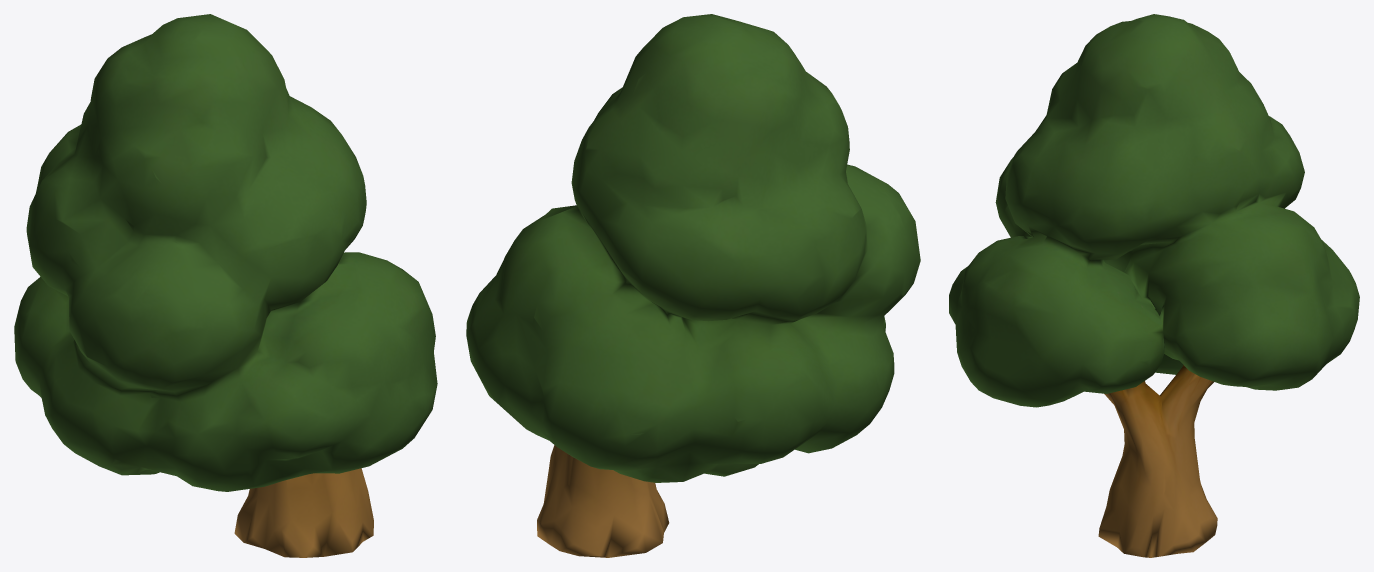
The model's file is textures.glb.
3 views of the same model, side by side, from view 1: azimuth 30°, elevation 25°; view 2: azimuth 150°, elevation 25°; view 3: azimuth 270°, elevation 25° (orthographic). The views are drawn at different scales.
Parts seen in each view (by area): view 1: tripo_node_76d6a147-b27d-46d3-809e-a8ddc2b48e11; view 2: tripo_node_76d6a147-b27d-46d3-809e-a8ddc2b48e11; view 3: tripo_node_76d6a147-b27d-46d3-809e-a8ddc2b48e11.
Boxes of the visible parts, left/top/right/bottom form: tripo_node_76d6a147-b27d-46d3-809e-a8ddc2b48e11: left=14, top=14, right=437, bottom=557; tripo_node_76d6a147-b27d-46d3-809e-a8ddc2b48e11: left=466, top=14, right=920, bottom=557; tripo_node_76d6a147-b27d-46d3-809e-a8ddc2b48e11: left=949, top=14, right=1359, bottom=557.
Size of the model in its own units: 0.6633 by 1 by 0.7979.
1 material, 1 textured.
